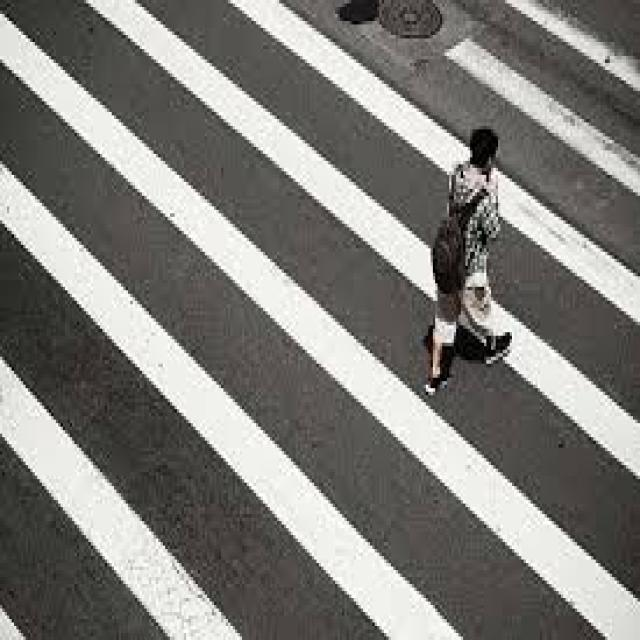Pedestrians: (424, 119, 516, 395)
